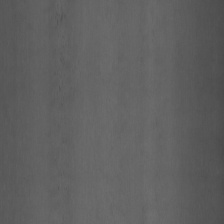silk_spot: (48, 3, 85, 130)
